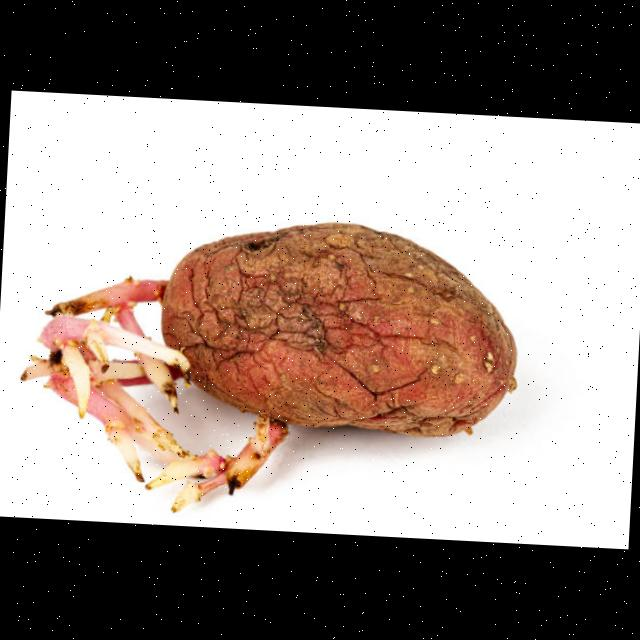Sprouted potato: (146, 217, 544, 520)
